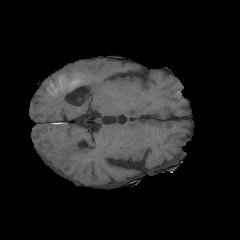glioma: (46, 75, 110, 171)
